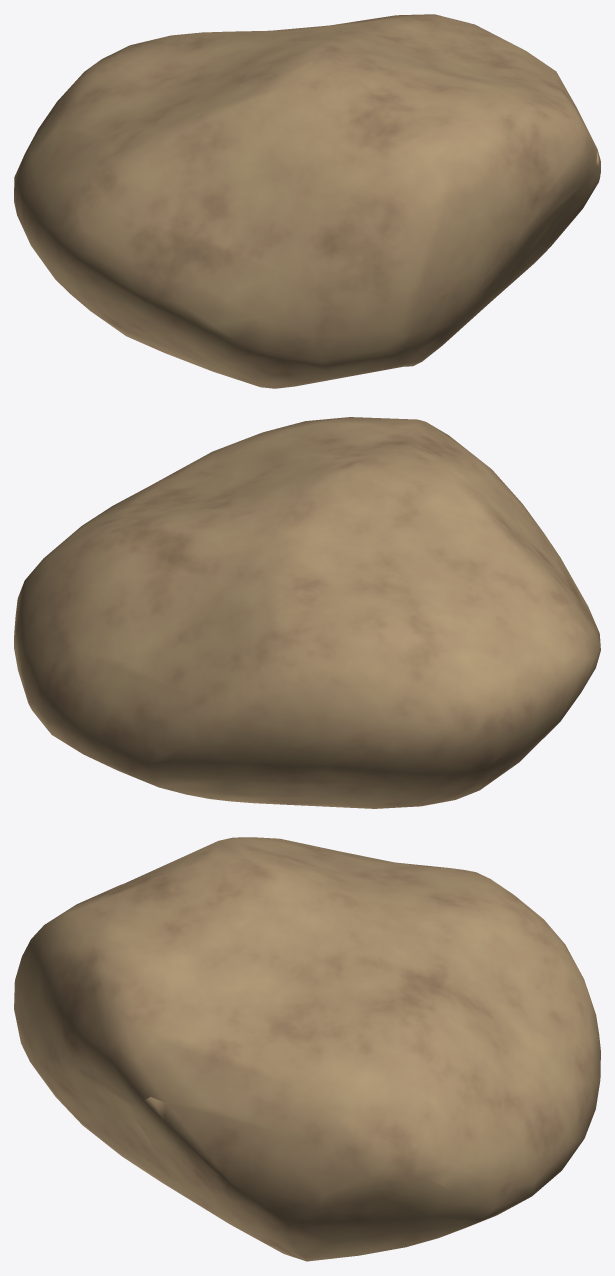
The model's file is Rock110x100x60.gltf.
3 renders of one model, top to bottom at view 1: azimuth 30°, elevation 25°; view 2: azimuth 150°, elevation 25°; view 3: azimuth 270°, elevation 25°, orthographic. The views are drawn at different scales.
Visible parts, largest first — view 1: Stein 110x100x60LowPoly; view 2: Stein 110x100x60LowPoly; view 3: Stein 110x100x60LowPoly.
Boxes of the visible parts, bbox=[...] form: Stein 110x100x60LowPoly: bbox=[14, 14, 600, 388]; Stein 110x100x60LowPoly: bbox=[14, 417, 600, 808]; Stein 110x100x60LowPoly: bbox=[14, 837, 600, 1261].
Bounding box in the file's own units: 1.11 × 0.6211 × 1.02.
1 material, 1 textured.
